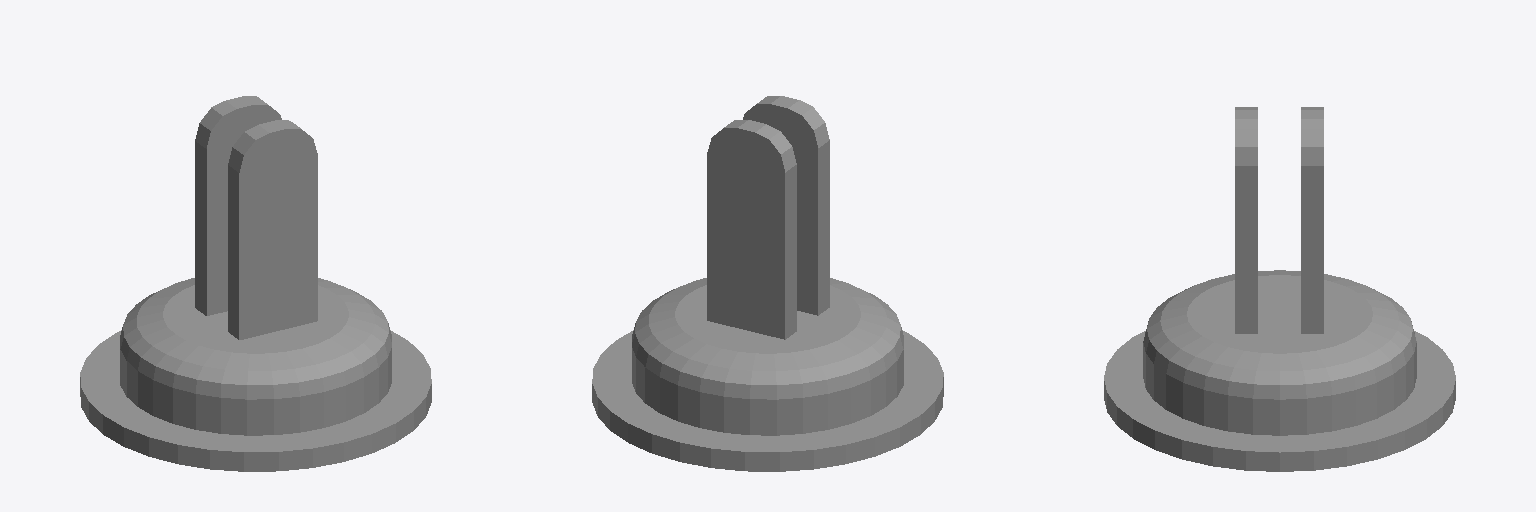
Rendered from machinearm_swivel.obj.
3 renders of one model, left to right at view 1: azimuth 30°, elevation 25°; view 2: azimuth 150°, elevation 25°; view 3: azimuth 270°, elevation 25°, orthographic.
Visible parts, largest first — view 1: Cube.001_Cube.002; view 2: Cube.001_Cube.002; view 3: Cube.001_Cube.002.
Boxes of the visible parts, x1,y1,x2,y2 form: Cube.001_Cube.002: [80, 96, 431, 471]; Cube.001_Cube.002: [592, 96, 943, 471]; Cube.001_Cube.002: [1104, 107, 1455, 471].
Size of the model in its own units: 0.658 by 0.5836 by 0.658.